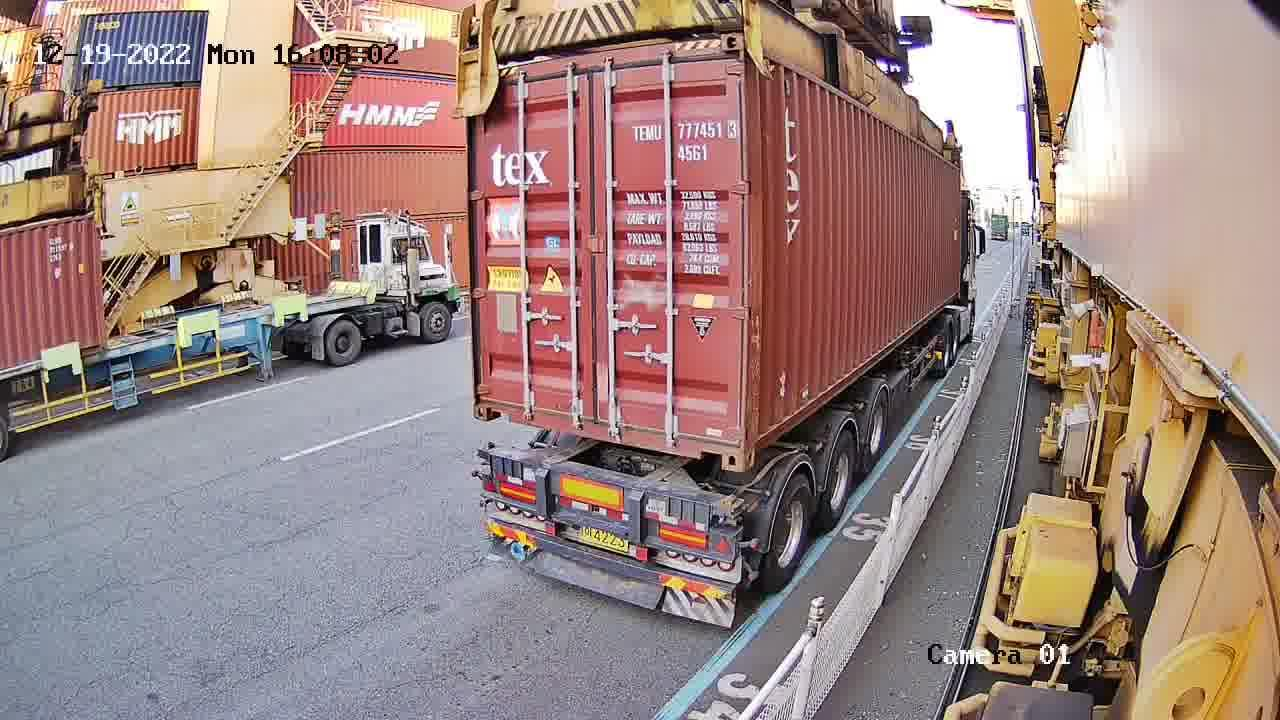Chassis: (479, 442, 749, 564)
Cone: (713, 495, 748, 531), (473, 440, 498, 469)
Hole_L: (744, 404, 771, 473), (475, 377, 511, 423)
Hole_R: (698, 419, 746, 473)
Tire: (762, 476, 814, 590), (823, 434, 856, 518), (862, 395, 887, 463)
